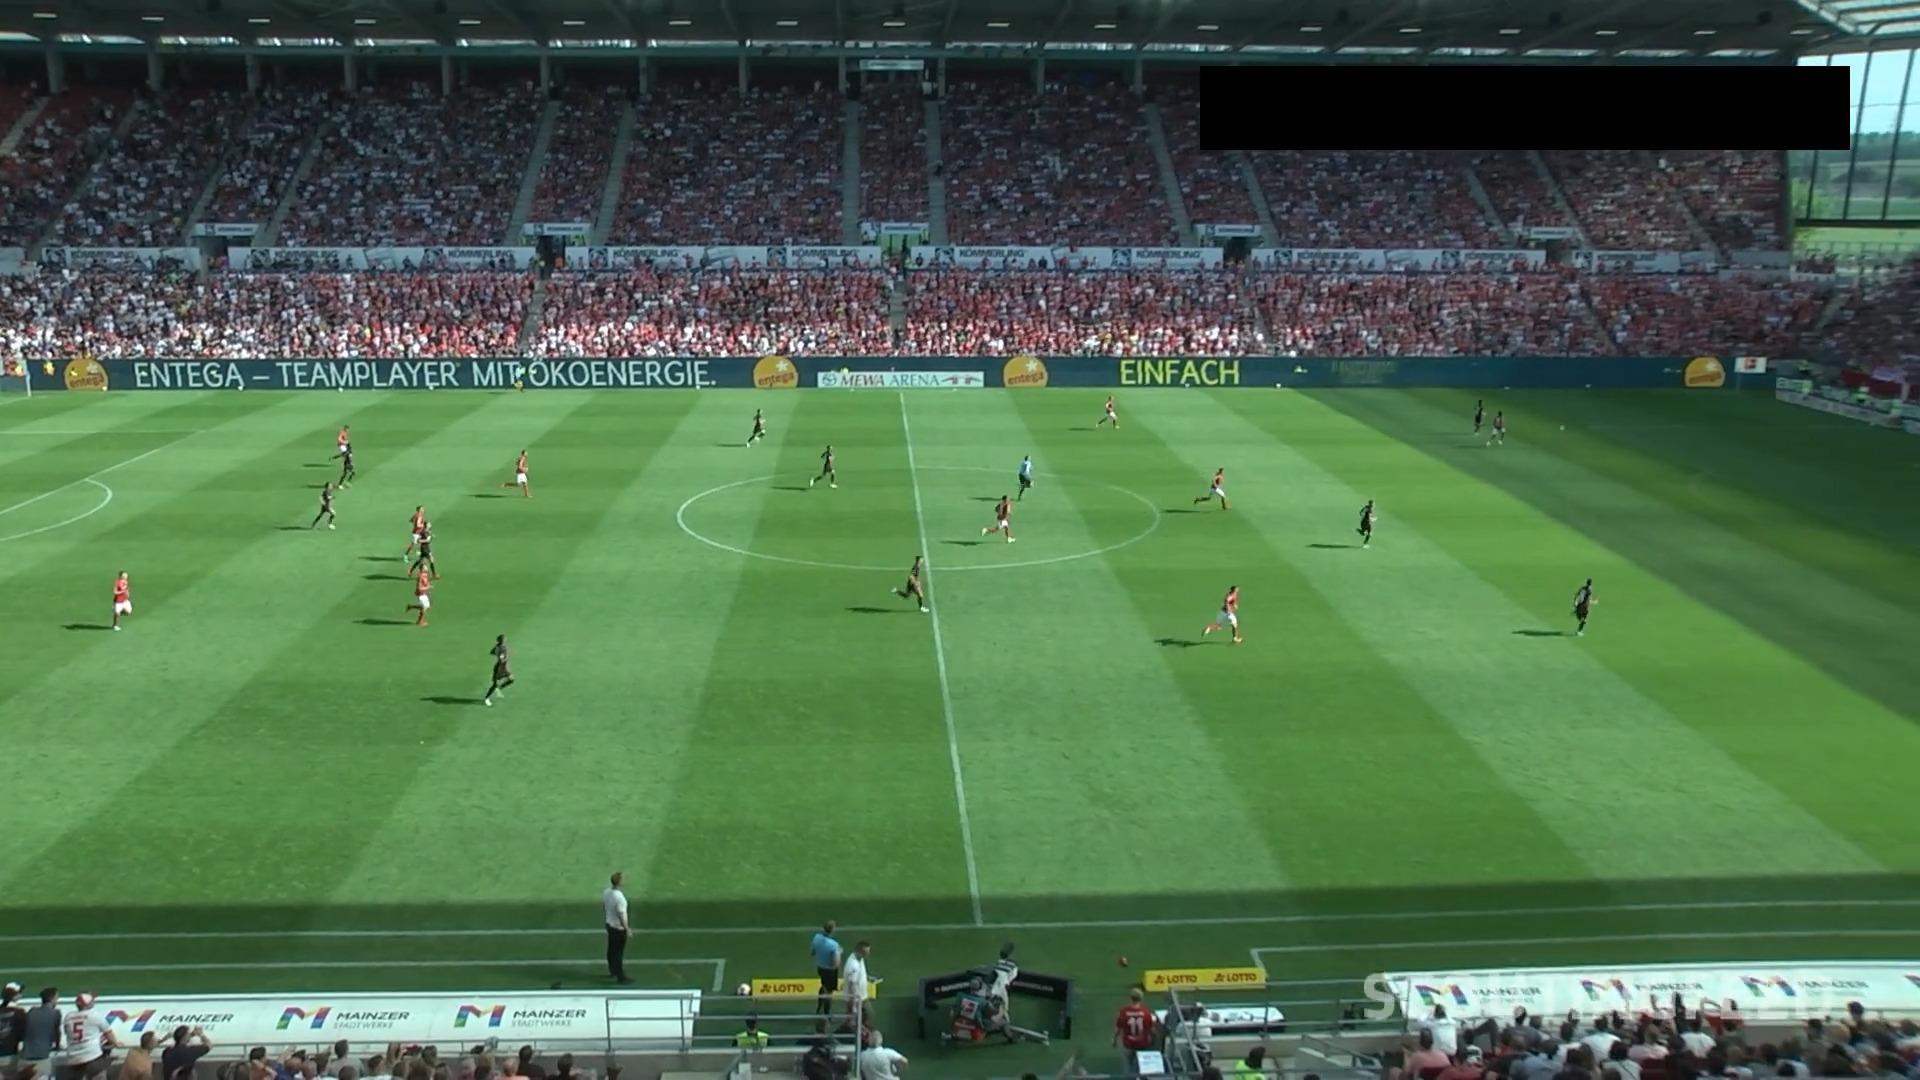ball: (1559, 425, 1565, 431)
